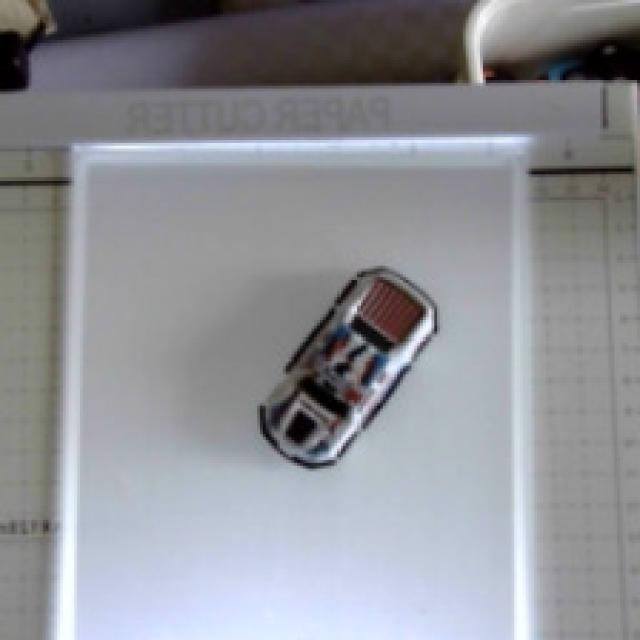Grey Car: (243, 232, 479, 491)
